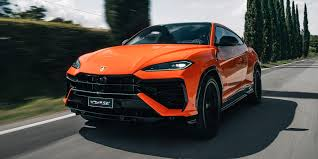car: (63, 23, 267, 137)
